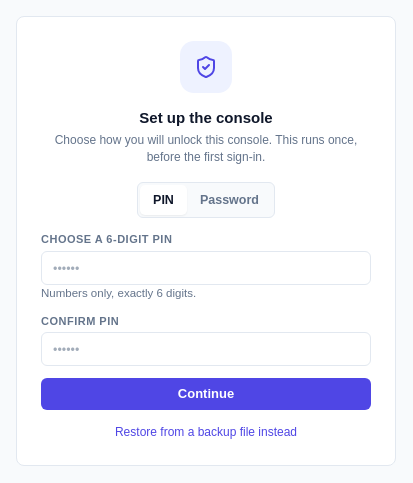
Test: Setup — PIN mode validation › strips non-digit characters as they're typed
Step 1. Type "1a2b3c4d5e6f" into the password field labelled "Choose a 6-digit PIN" → [206, 268], box [41,251,371,285]
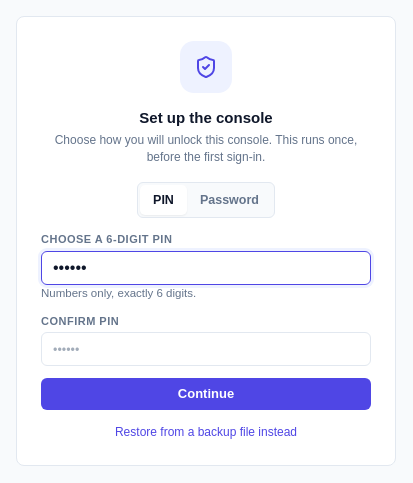
Check: the password field labelled "Choose a 6-digit PIN" holds "123456", box [41,251,371,285]
